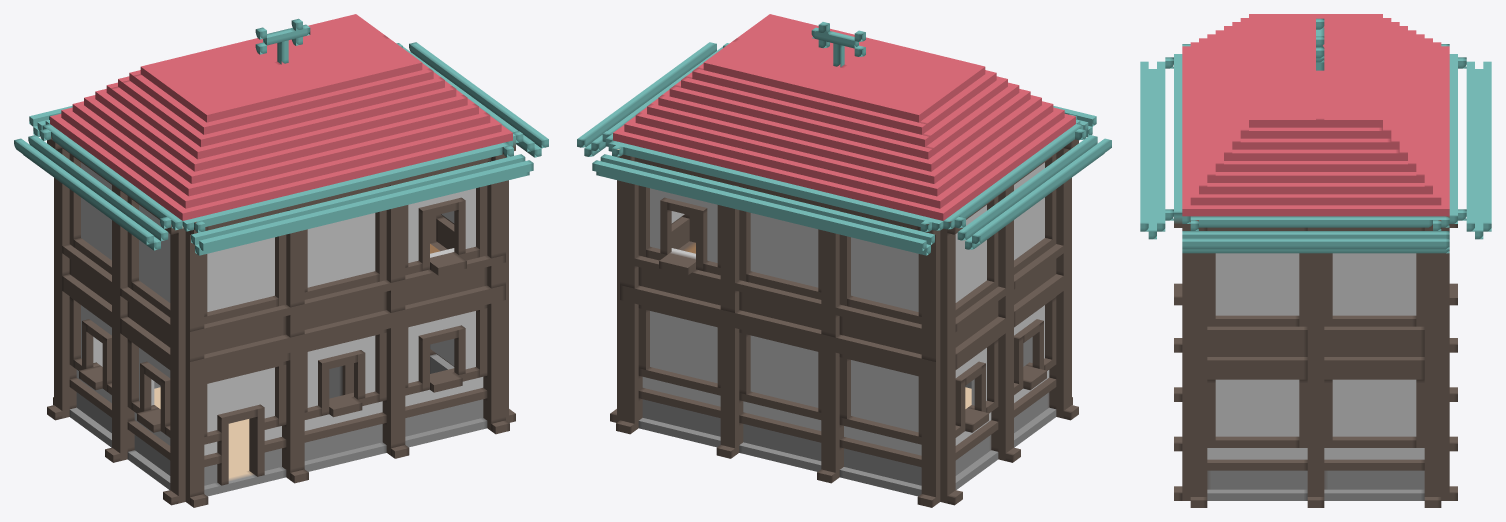
File: PlayerHome1.obj
The picture shows the model from 3 angles, left to right: view 1: azimuth 30°, elevation 25°; view 2: azimuth 150°, elevation 25°; view 3: azimuth 270°, elevation 25°; orthographic projection.
Parts seen in each view (by area): view 1: Model; view 2: Model; view 3: Model.
Part boxes in pixels (left/top/right/bottom): Model: left=14, top=14, right=548, bottom=507; Model: left=577, top=14, right=1111, bottom=507; Model: left=1140, top=14, right=1491, bottom=507.
Size of the model in its own units: 29.87 by 27.73 by 22.4.
Materials: 1 (1 with a texture image).
